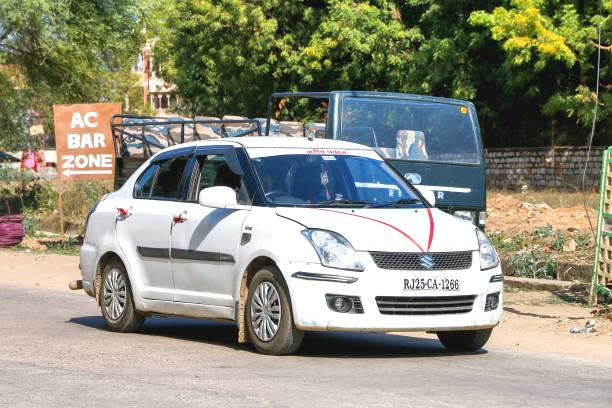suzuki: (416, 250, 439, 272)
